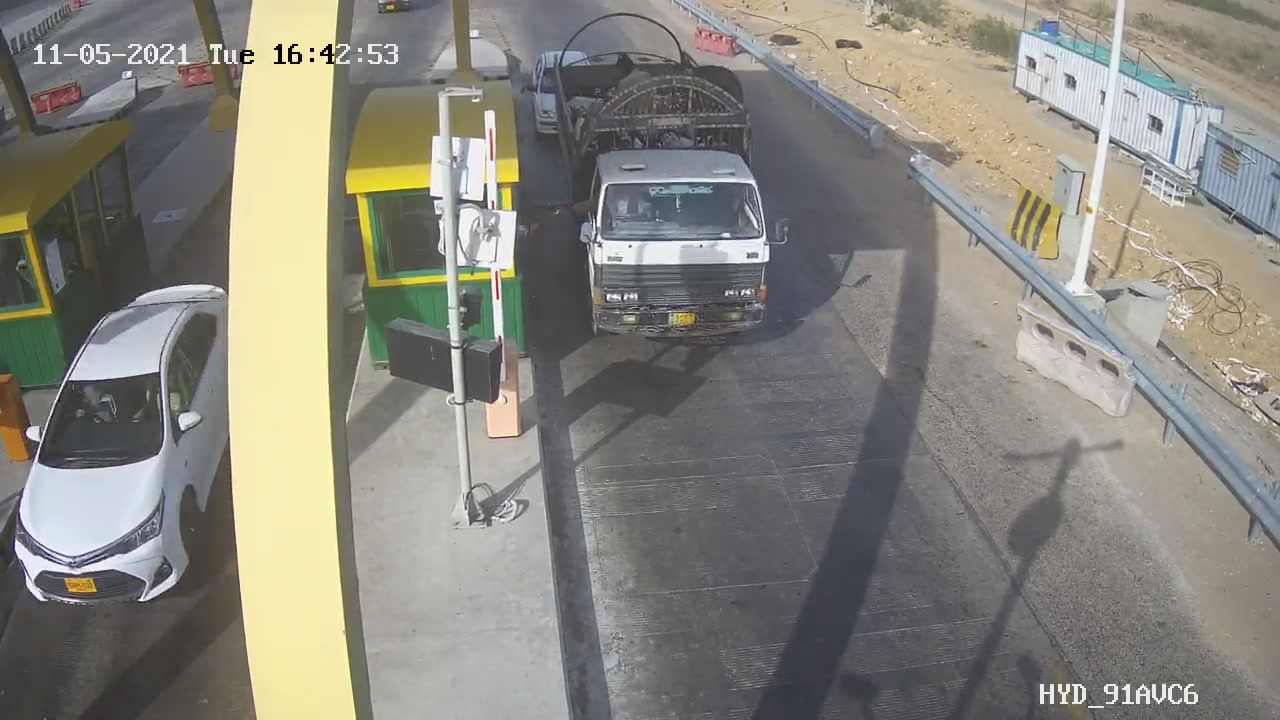F5: (537, 5, 825, 366)
